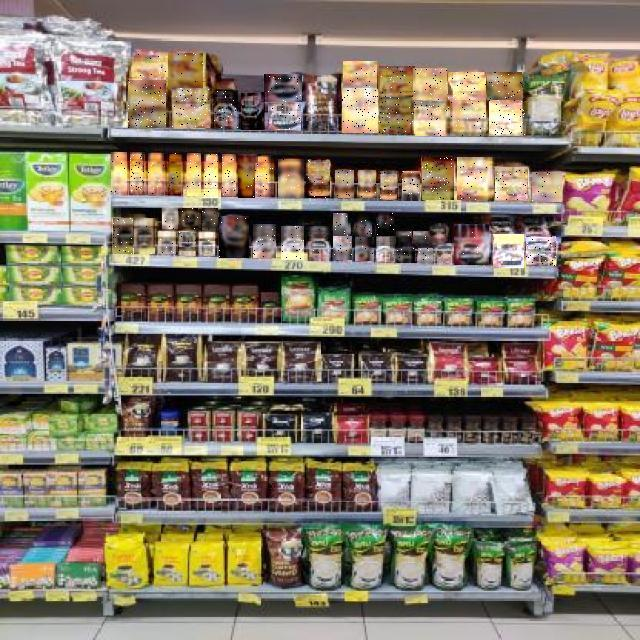Coffee: (128, 81, 166, 129), (342, 89, 378, 133), (173, 89, 211, 129), (458, 157, 492, 200), (454, 224, 489, 265), (423, 157, 455, 200), (380, 97, 416, 134), (451, 101, 487, 137), (490, 101, 526, 137), (168, 53, 203, 89), (219, 216, 249, 258), (416, 101, 450, 136), (495, 167, 528, 201), (379, 66, 415, 97), (413, 69, 447, 101), (132, 52, 168, 82), (448, 72, 486, 100), (264, 75, 302, 103), (493, 234, 524, 268), (278, 159, 304, 198), (213, 90, 238, 130), (242, 92, 268, 130), (487, 72, 522, 100), (343, 62, 377, 90), (305, 224, 330, 262), (307, 159, 331, 198), (268, 102, 301, 130), (532, 172, 562, 202), (527, 236, 557, 266), (238, 154, 257, 198), (253, 224, 276, 258), (281, 226, 304, 260), (256, 156, 274, 198), (134, 218, 155, 254), (113, 218, 133, 254), (111, 152, 127, 196), (148, 153, 164, 196), (205, 154, 219, 198), (187, 153, 201, 196), (130, 152, 144, 194), (222, 155, 236, 197), (168, 153, 181, 196), (335, 170, 354, 198), (380, 171, 398, 200), (358, 171, 376, 199), (402, 172, 420, 200), (376, 236, 395, 262), (333, 237, 352, 261), (354, 213, 372, 237), (178, 232, 196, 256), (356, 237, 374, 261), (377, 213, 395, 236), (158, 232, 176, 254), (199, 232, 215, 256), (334, 213, 350, 236), (202, 208, 218, 230), (182, 208, 198, 230), (162, 208, 178, 229), (397, 248, 415, 263), (414, 232, 432, 246), (418, 248, 433, 263), (397, 232, 413, 246)
